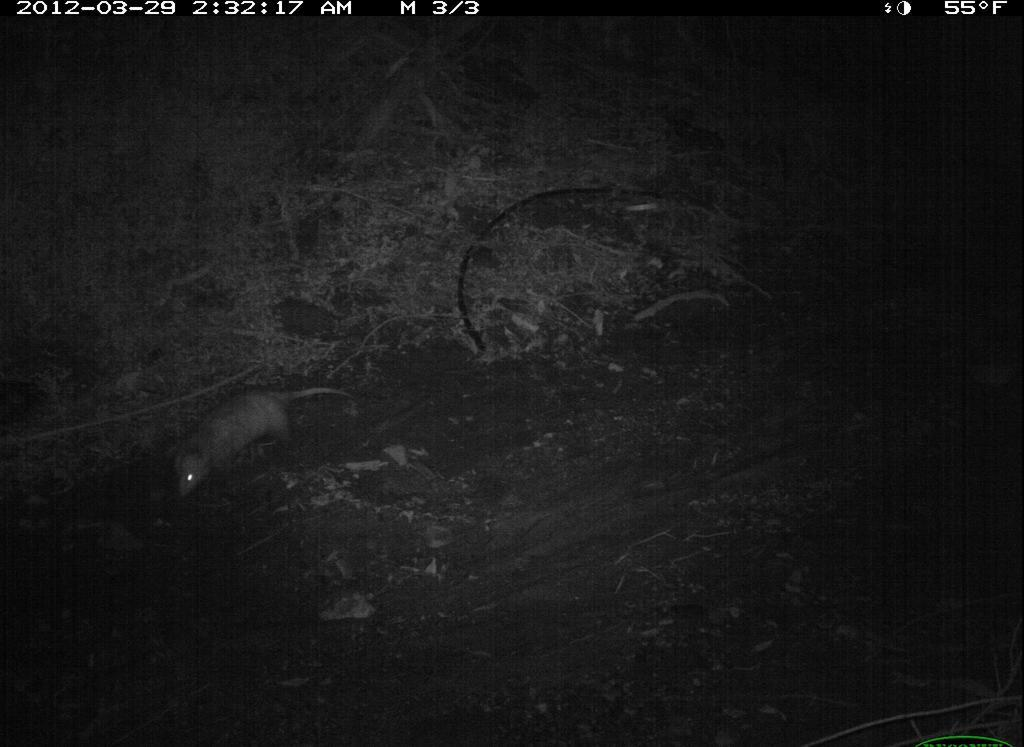opossum: (164, 370, 354, 506)
